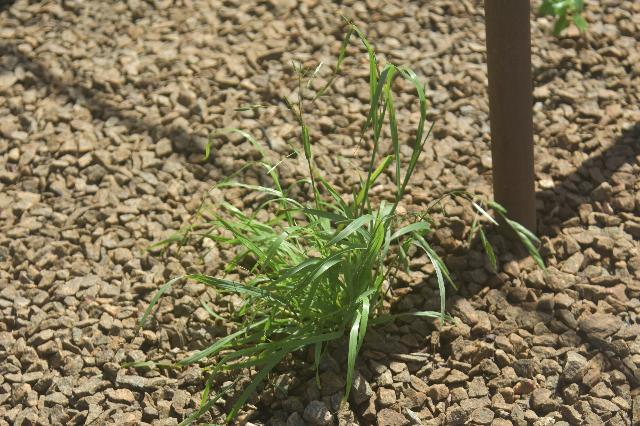MalezaMontesDelPlata: (295, 4, 442, 347), (129, 126, 293, 422), (292, 190, 552, 321), (329, 225, 331, 228)
